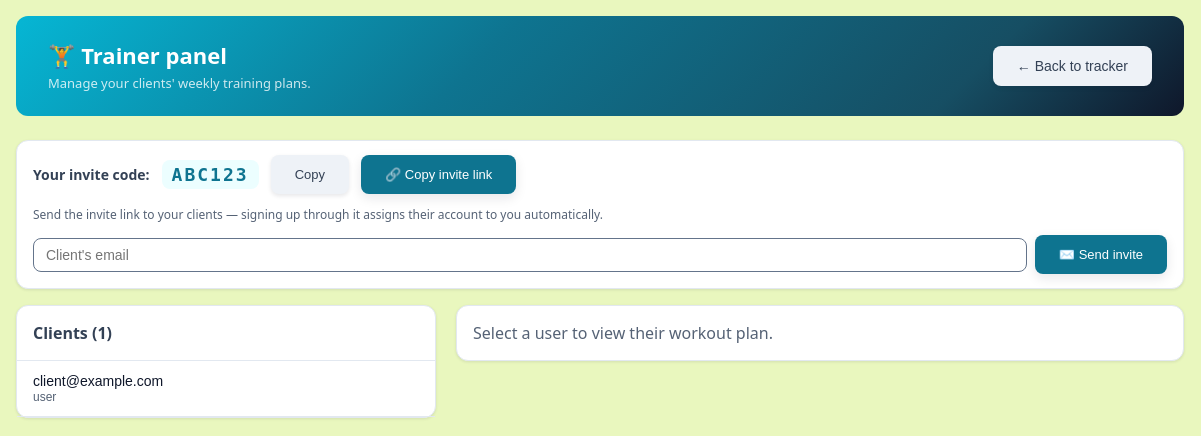
Test: AdminDashboard copy indicator timer › re-arms the timer on a rapid second copy instead of hiding early
Click the button "Copy": x=310, y=174 left=271, top=155, right=349, bottom=194
Wait 1500 ms
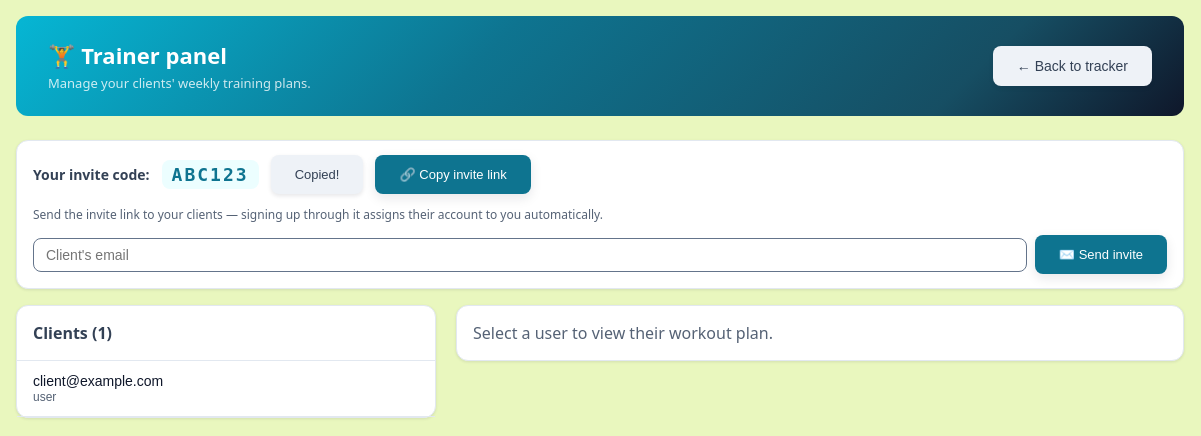
Click the button "🔗 Copy invite link": x=453, y=174 left=375, top=155, right=531, bottom=194
Wait 2100 ms
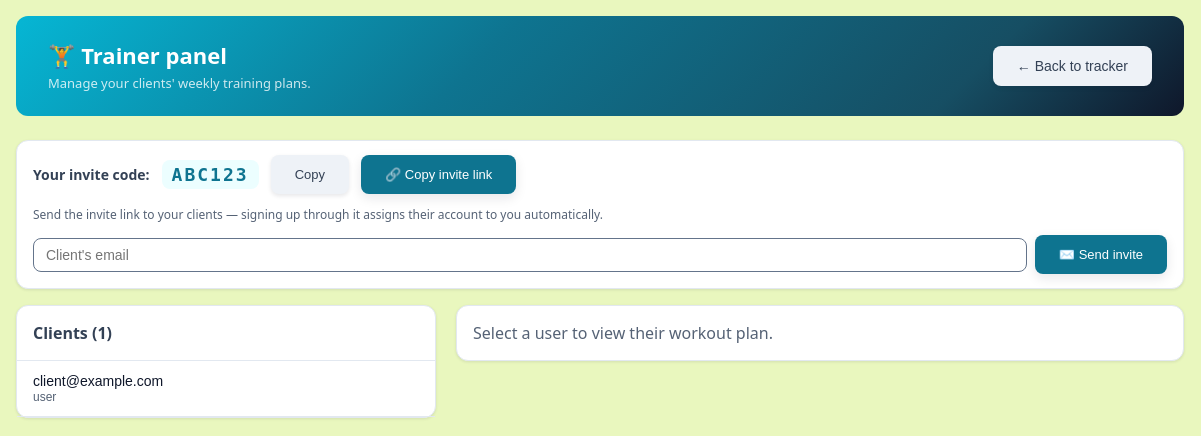
Expected: the button "Copied!" is shown, left=361, top=155, right=516, bottom=194
Expected: the button "Copied!" is gone
